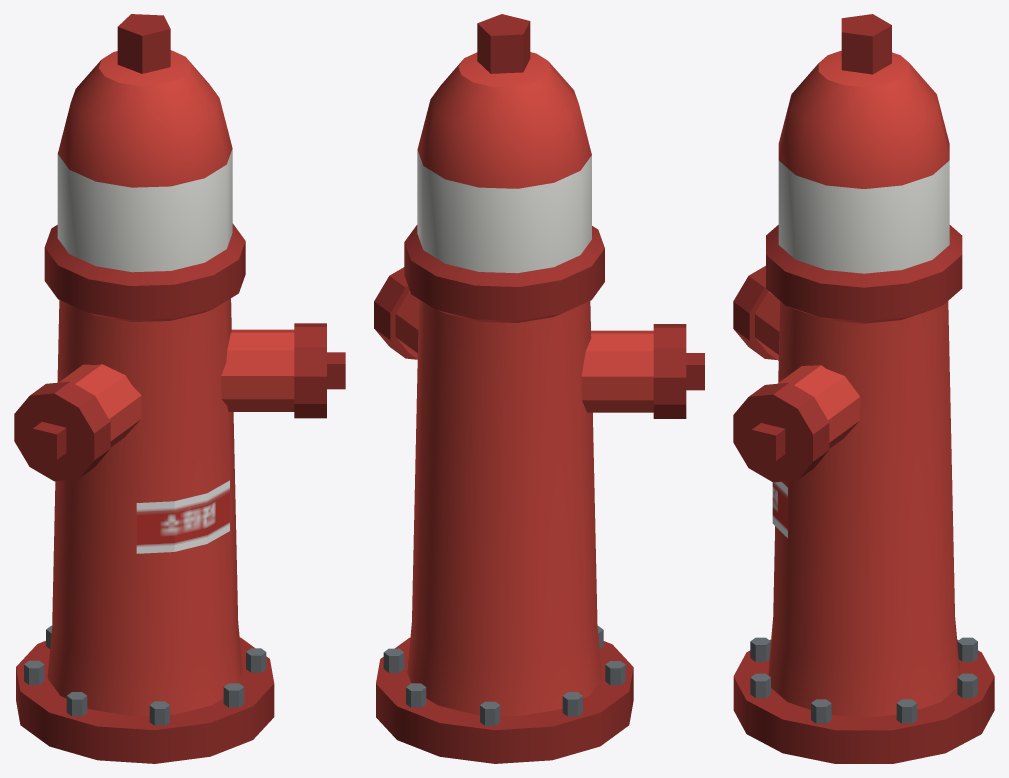
Rendered from SC_Util_Fire_Hydrant.gltf.
3 renders of one model, left to right at view 1: azimuth 30°, elevation 25°; view 2: azimuth 150°, elevation 25°; view 3: azimuth 270°, elevation 25°, orthographic.
Parts seen in each view (by area): view 1: SC_Util_Fire_Hydrant; view 2: SC_Util_Fire_Hydrant; view 3: SC_Util_Fire_Hydrant.
Part boxes in pixels (bbox=[...]): SC_Util_Fire_Hydrant: bbox=[14, 14, 345, 763]; SC_Util_Fire_Hydrant: bbox=[374, 14, 704, 763]; SC_Util_Fire_Hydrant: bbox=[733, 14, 994, 763].
Size of the model in its own units: 0.3874 by 0.81 by 0.2803.
Materials: 2 (2 with a texture image).
